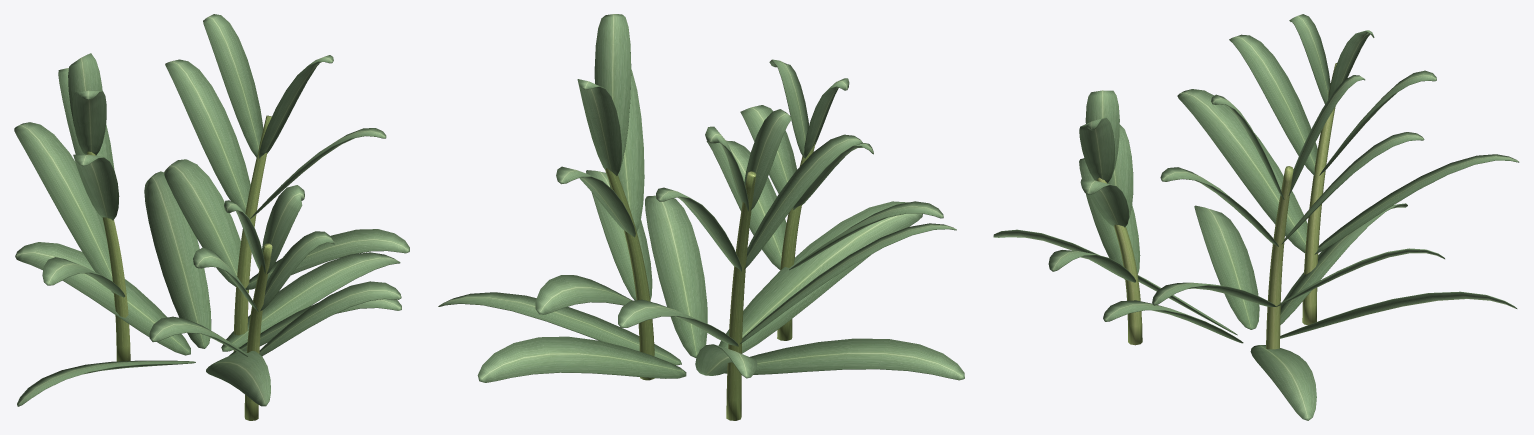
Rendered from NP_Lavender_Young.fbx.
3 renders of one model, left to right at view 1: azimuth 30°, elevation 25°; view 2: azimuth 150°, elevation 25°; view 3: azimuth 270°, elevation 25°, orthographic. The views are drawn at different scales.
Parts seen in each view (by area): view 1: NP_Lavender_Young; view 2: NP_Lavender_Young; view 3: NP_Lavender_Young.
Part boxes in pixels (bbox=[...]): NP_Lavender_Young: bbox=[14, 14, 409, 420]; NP_Lavender_Young: bbox=[438, 14, 964, 420]; NP_Lavender_Young: bbox=[993, 14, 1519, 420].
Size of the model in its own units: 34.96 by 23.17 by 36.77.
